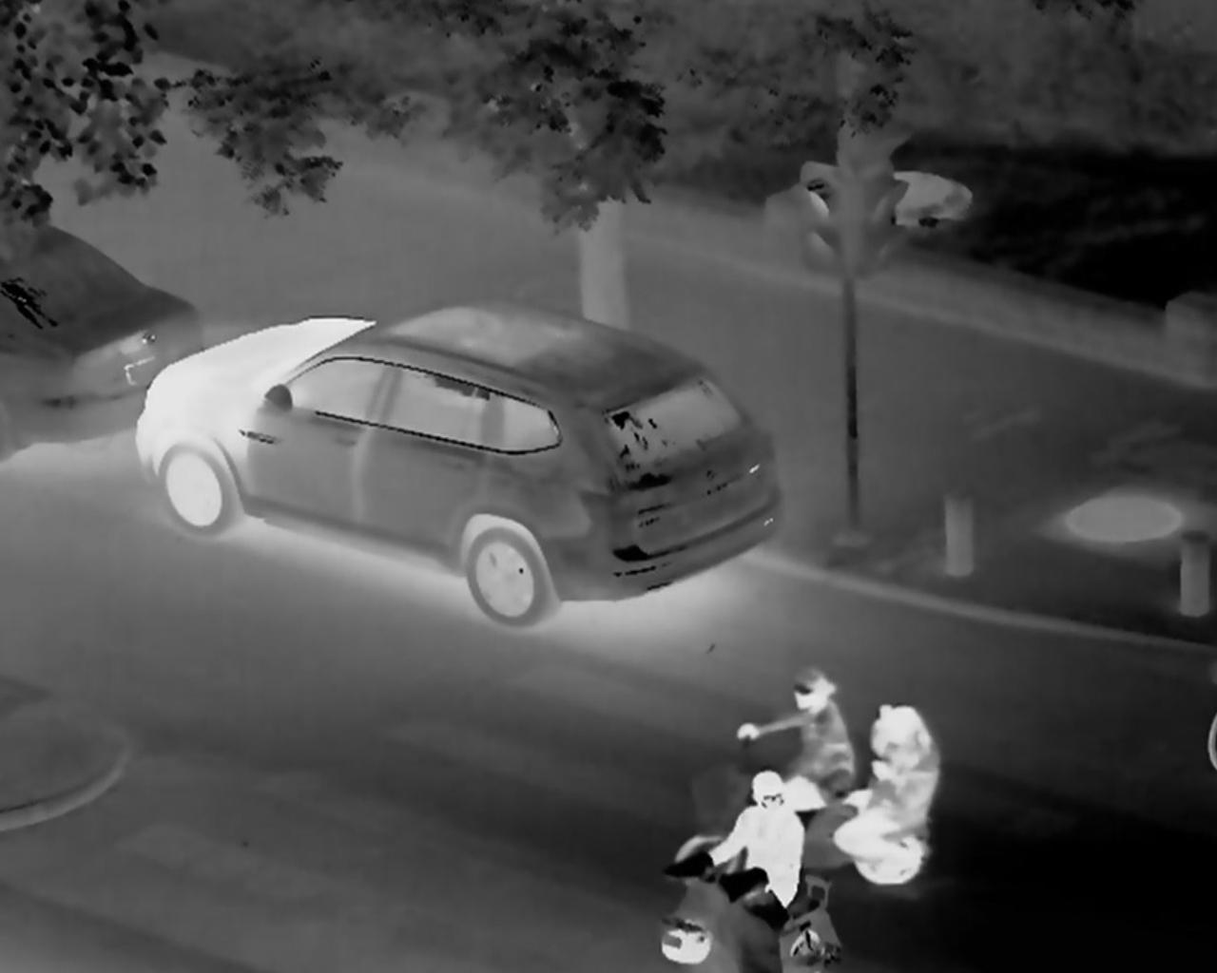person: (708, 783, 831, 930), (863, 716, 935, 860), (765, 656, 844, 786)
